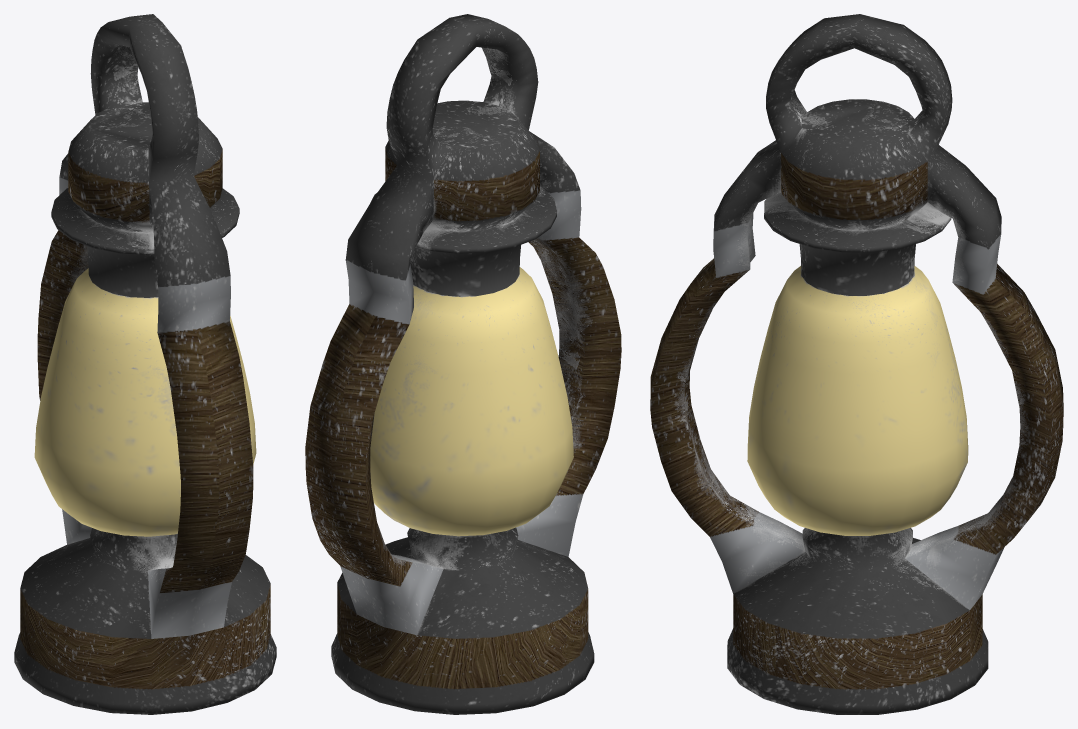
The model's file is GasLantern 2.fbx.
The picture shows the model from 3 angles, left to right: view 1: azimuth 30°, elevation 25°; view 2: azimuth 150°, elevation 25°; view 3: azimuth 270°, elevation 25°; orthographic projection.
Parts seen in each view (by area): view 1: Cylinder; view 2: Cylinder; view 3: Cylinder.
Boxes of the visible parts, bbox=[...] form: Cylinder: bbox=[14, 14, 276, 714]; Cylinder: bbox=[305, 14, 621, 714]; Cylinder: bbox=[650, 14, 1063, 714].
Bounding box in the file's own units: 31.05 × 83.79 × 49.15.
